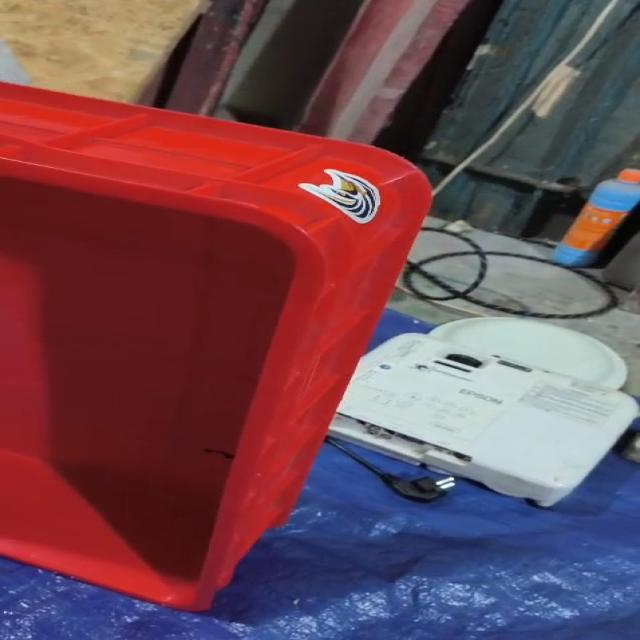red plastic box: (0, 81, 434, 614)
